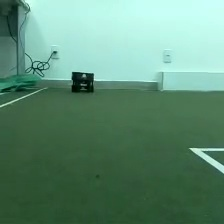goal: (155, 69, 224, 92)
robot: (69, 69, 95, 93)
